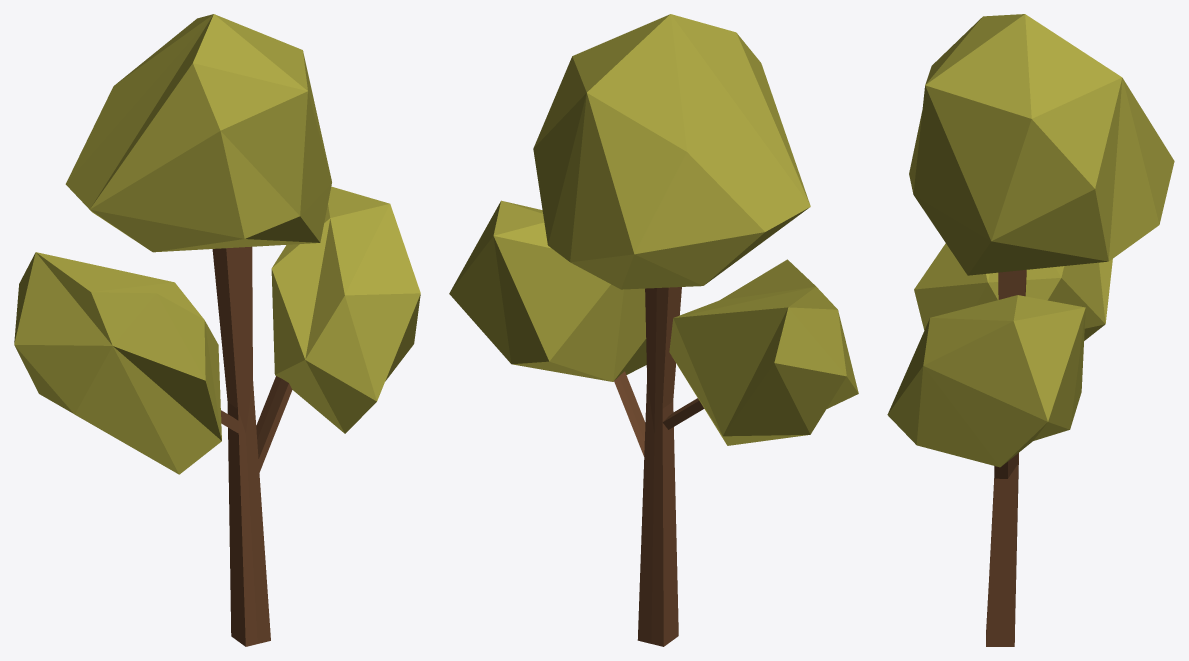
File: Tree_22_Yellow.fbx
The picture shows the model from 3 angles, left to right: view 1: azimuth 30°, elevation 25°; view 2: azimuth 150°, elevation 25°; view 3: azimuth 270°, elevation 25°; orthographic projection. The views are drawn at different scales.
Visible parts, largest first — view 1: Tree_22_Yellow_Part_1, Tree_22_Yellow_Part_2; view 2: Tree_22_Yellow_Part_1, Tree_22_Yellow_Part_2; view 3: Tree_22_Yellow_Part_1, Tree_22_Yellow_Part_2.
Part boxes in pixels (x1=…): Tree_22_Yellow_Part_1: x1=14, y1=14, x2=420, y2=474; Tree_22_Yellow_Part_2: x1=212, y1=246, x2=292, y2=646; Tree_22_Yellow_Part_1: x1=449, y1=14, x2=858, y2=445; Tree_22_Yellow_Part_2: x1=614, y1=287, x2=704, y2=646; Tree_22_Yellow_Part_1: x1=887, y1=14, x2=1174, y2=467; Tree_22_Yellow_Part_2: x1=986, y1=270, x2=1026, y2=646.
Bounding box in the file's own units: 509 × 777 × 329.
